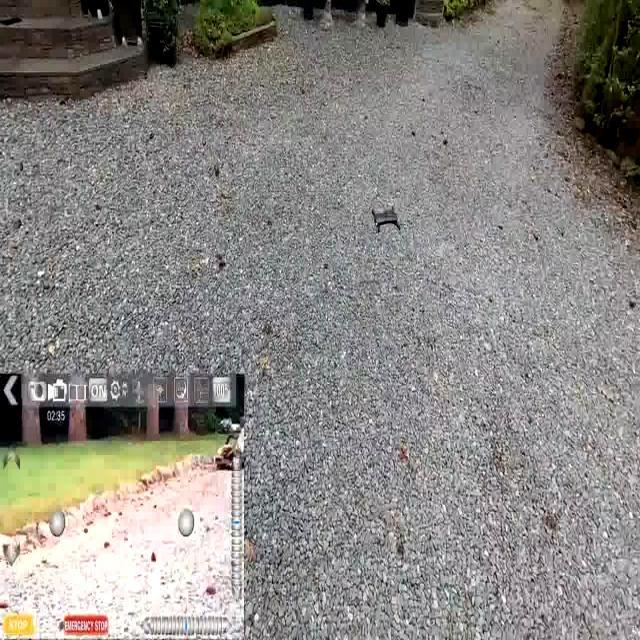drone: (364, 195, 408, 239)
